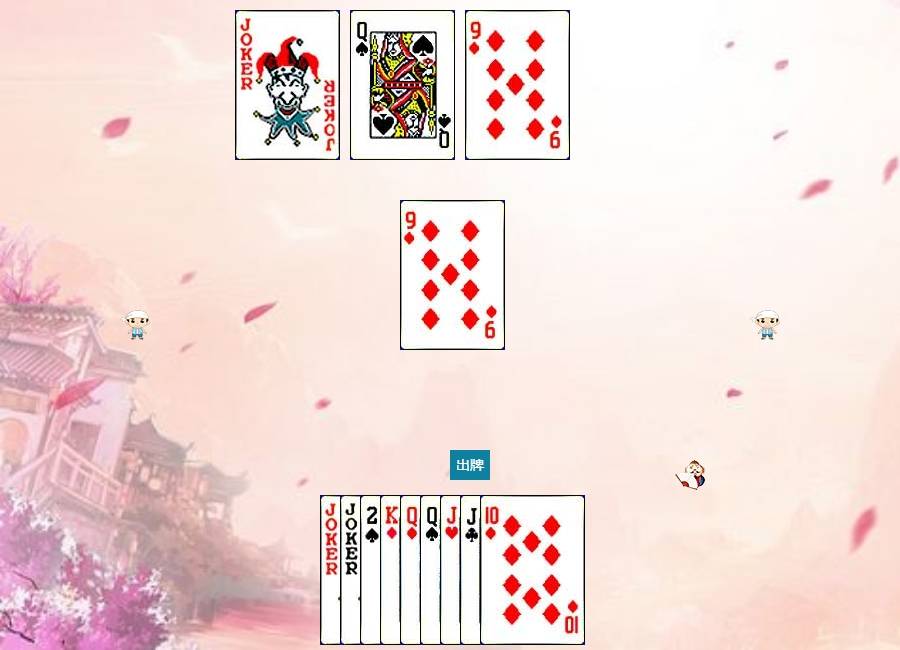10~1: (480, 495, 585, 645)
11~2: (460, 495, 565, 645)
11~3: (440, 495, 545, 645)
12~1: (400, 495, 505, 645)
12~4: (350, 10, 455, 160), (420, 495, 525, 645)
13~1: (380, 495, 485, 645)
15~4: (360, 495, 465, 645)
17~3: (340, 495, 445, 645)
18~4: (235, 10, 340, 160), (320, 495, 425, 645)
9~1: (465, 10, 570, 160), (400, 200, 505, 350)
